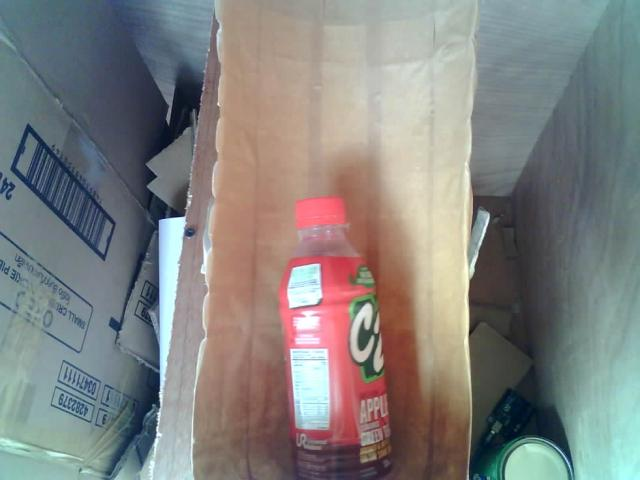small_bottle: (253, 186, 412, 480)
